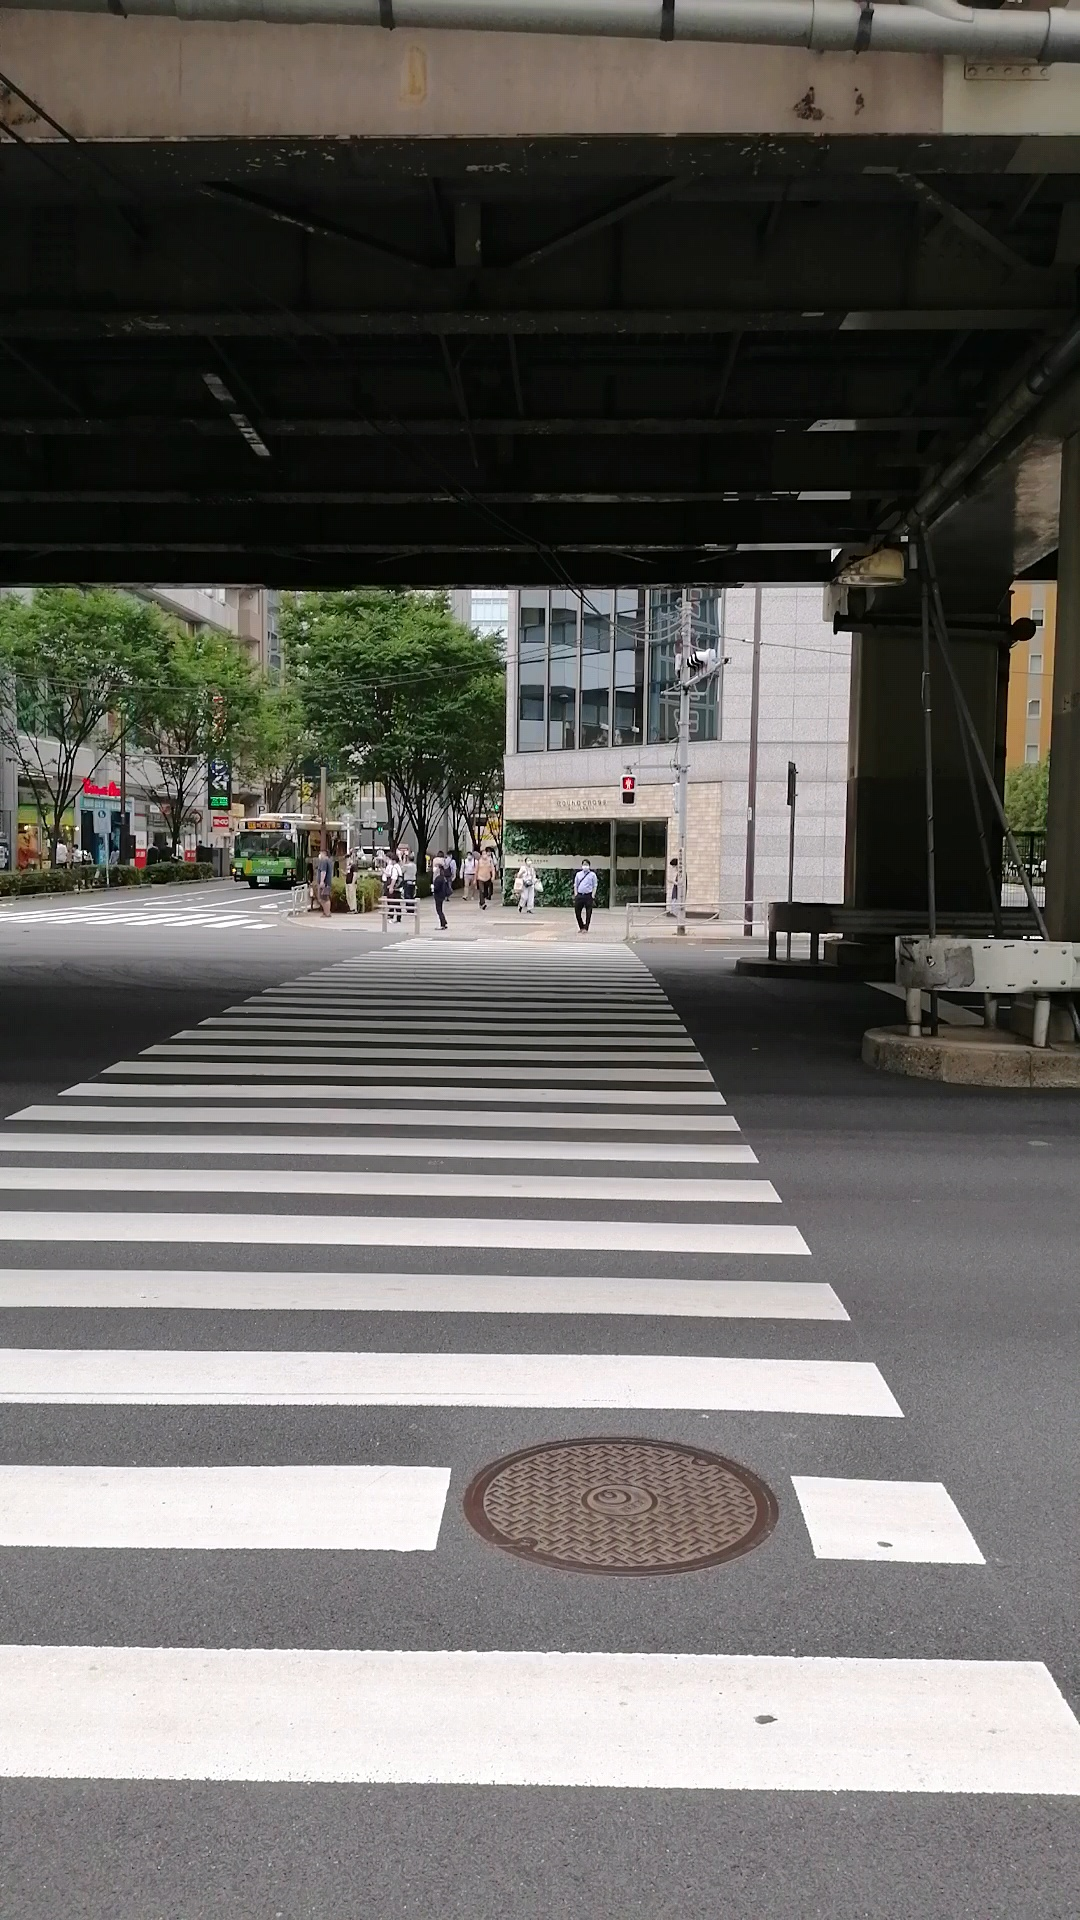red: (618, 775, 636, 806)
